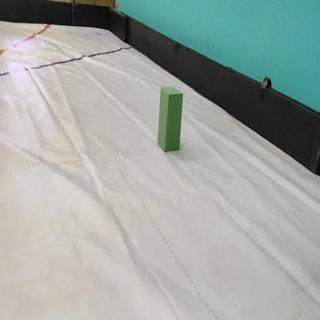greenbox: (156, 85, 184, 154)
